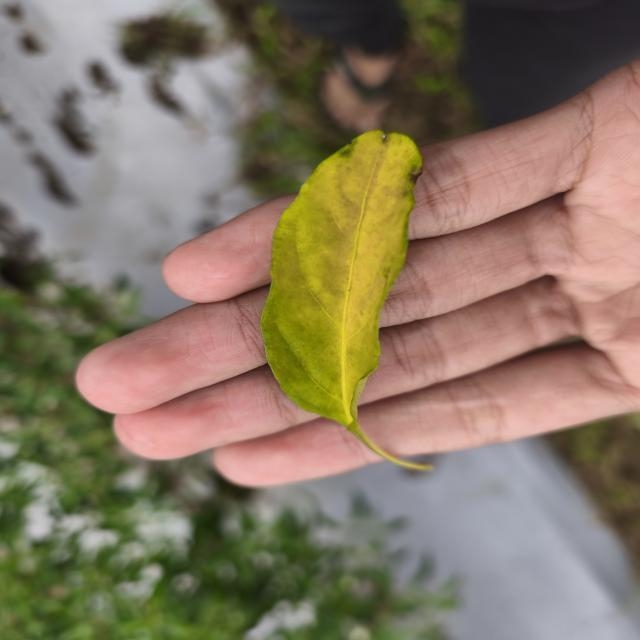Virus Kuning: (259, 129, 424, 427)
